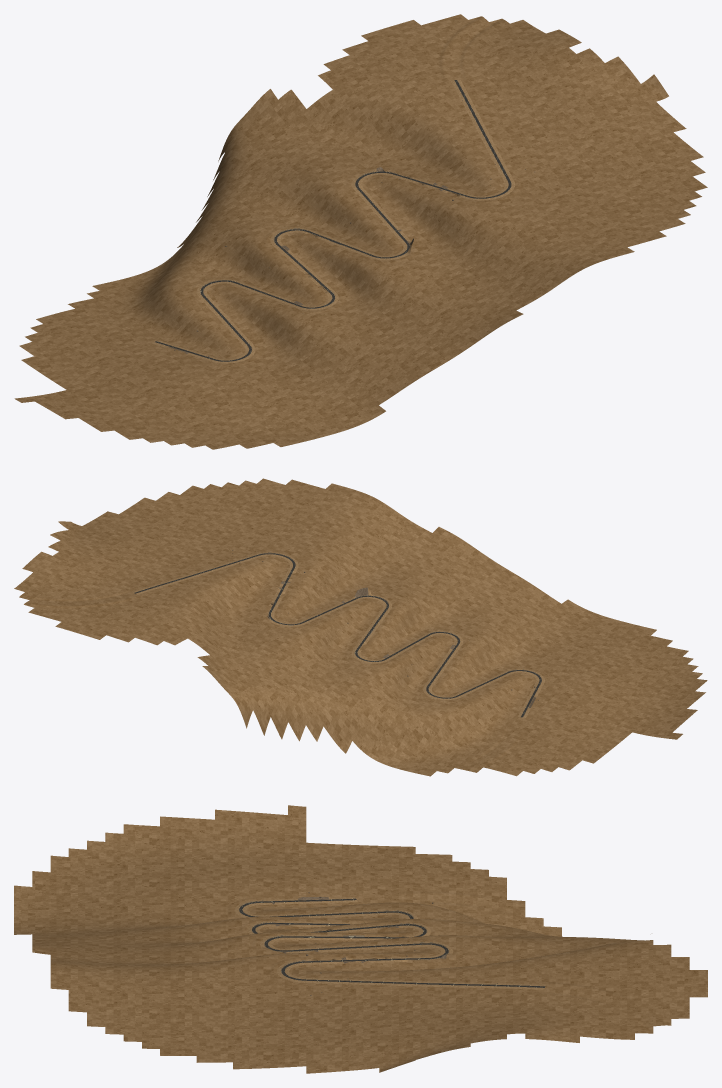
The picture shows the model from 3 angles, top to bottom: view 1: azimuth 30°, elevation 25°; view 2: azimuth 150°, elevation 25°; view 3: azimuth 270°, elevation 25°; orthographic projection. The views are drawn at different scales.
Visible parts, largest first — view 1: S03_TERRAIN_LOD0_WEB_EXPORT, V2_LANDFORM_S03_CUT_FILL_LEFT_WEB_EXPORT, V2_LANDFORM_S03_CUT_FILL_RIGHT_WEB_EXPORT, S03_ROAD_ASPHALT_LOD0_WEB_EXPORT; view 2: S03_TERRAIN_LOD0_WEB_EXPORT, V2_LANDFORM_S03_CUT_FILL_RIGHT_WEB_EXPORT, V2_LANDFORM_S03_CUT_FILL_LEFT_WEB_EXPORT, S03_ROAD_ASPHALT_LOD0_WEB_EXPORT; view 3: S03_TERRAIN_LOD0_WEB_EXPORT, V2_LANDFORM_S03_CUT_FILL_LEFT_WEB_EXPORT, V2_LANDFORM_S03_CUT_FILL_RIGHT_WEB_EXPORT, S03_ROAD_ASPHALT_LOD0_WEB_EXPORT, S03_ROADBED_LOD0_WEB_EXPORT.
Part boxes in pixels (x1,y1,x2,y2): S03_TERRAIN_LOD0_WEB_EXPORT: [14, 14, 707, 449]; V2_LANDFORM_S03_CUT_FILL_LEFT_WEB_EXPORT: [152, 79, 515, 363]; V2_LANDFORM_S03_CUT_FILL_RIGHT_WEB_EXPORT: [157, 80, 508, 360]; S03_ROAD_ASPHALT_LOD0_WEB_EXPORT: [155, 80, 511, 361]; S03_TERRAIN_LOD0_WEB_EXPORT: [14, 478, 707, 776]; V2_LANDFORM_S03_CUT_FILL_RIGHT_WEB_EXPORT: [136, 554, 538, 717]; V2_LANDFORM_S03_CUT_FILL_LEFT_WEB_EXPORT: [132, 552, 544, 717]; S03_ROAD_ASPHALT_LOD0_WEB_EXPORT: [134, 553, 541, 717]; S03_TERRAIN_LOD0_WEB_EXPORT: [14, 805, 707, 1073]; V2_LANDFORM_S03_CUT_FILL_LEFT_WEB_EXPORT: [234, 897, 544, 989]; V2_LANDFORM_S03_CUT_FILL_RIGHT_WEB_EXPORT: [243, 900, 546, 986]; S03_ROAD_ASPHALT_LOD0_WEB_EXPORT: [239, 898, 545, 987]; S03_ROADBED_LOD0_WEB_EXPORT: [243, 898, 542, 987].
Size of the model in its own units: 2080 by 403 by 1520.
12 materials, 9 textured.
